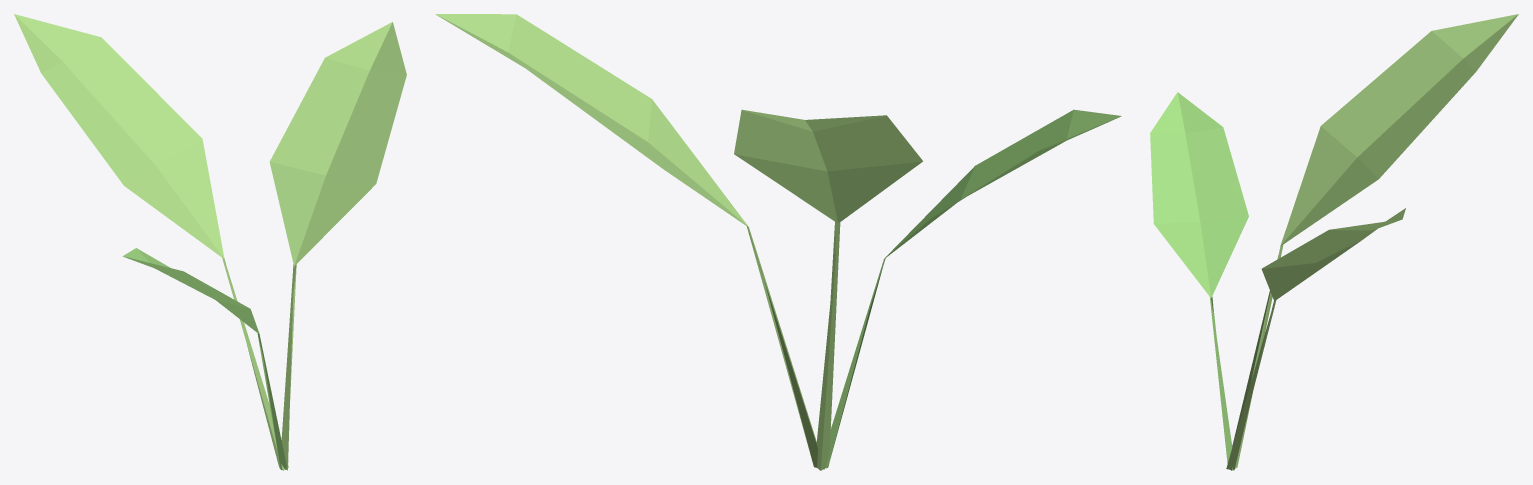
The model's file is Plant_j_TwoS_08.fbx.
The picture shows the model from 3 angles, left to right: view 1: azimuth 30°, elevation 25°; view 2: azimuth 150°, elevation 25°; view 3: azimuth 270°, elevation 25°; orthographic projection. The views are drawn at different scales.
Visible parts, largest first — view 1: Plant_j_TwoS_08; view 2: Plant_j_TwoS_08; view 3: Plant_j_TwoS_08.
Boxes of the visible parts, box(x1,y1,x2,y2) form: Plant_j_TwoS_08: box(14, 14, 406, 470); Plant_j_TwoS_08: box(435, 14, 1121, 470); Plant_j_TwoS_08: box(1150, 14, 1518, 470).
Bounding box in the file's own units: 0.2749 × 0.2642 × 0.2262.
